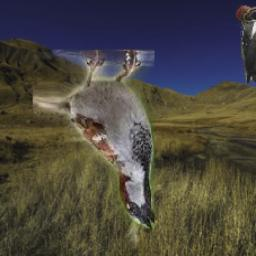Sparrow: (33, 50, 155, 228)
Woodpecker: (236, 4, 256, 104)
